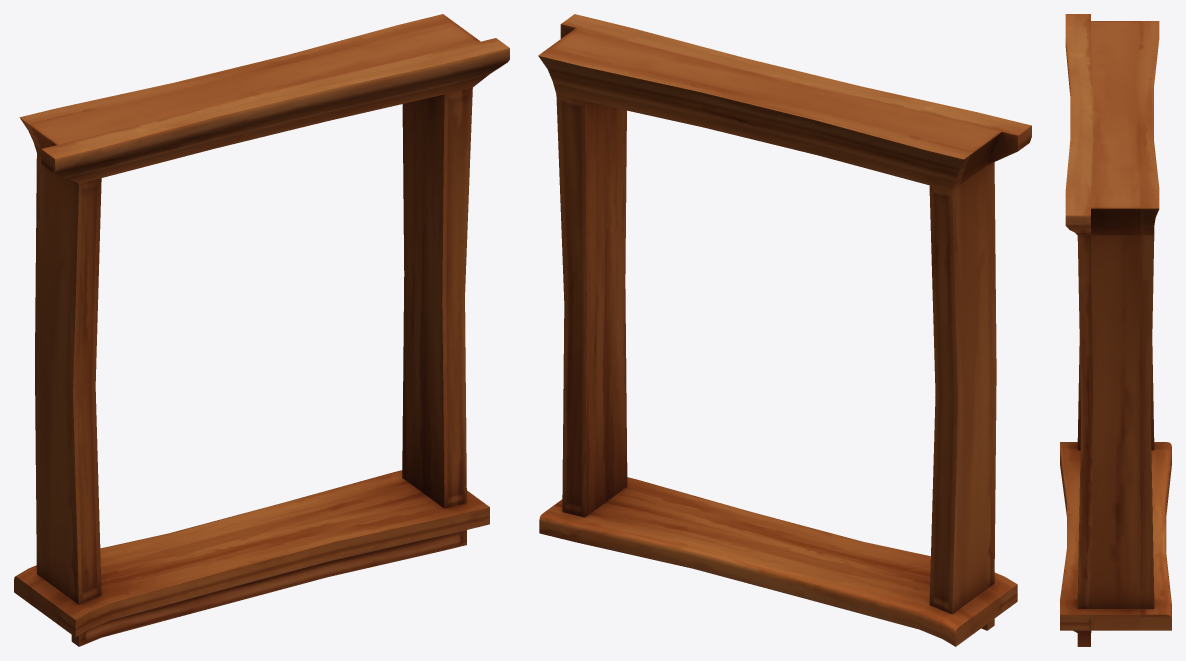
Rendered from PropWindow01TypeE_1_1.FBX.
The picture shows the model from 3 angles, left to right: view 1: azimuth 30°, elevation 25°; view 2: azimuth 150°, elevation 25°; view 3: azimuth 270°, elevation 25°; orthographic projection. The views are drawn at different scales.
Parts seen in each view (by area): view 1: PropWindow01TypeE_1_1; view 2: PropWindow01TypeE_1_1; view 3: PropWindow01TypeE_1_1.
Part boxes in pixels (<box>): PropWindow01TypeE_1_1: <box>14,14,509,646</box>; PropWindow01TypeE_1_1: <box>538,14,1031,646</box>; PropWindow01TypeE_1_1: <box>1060,14,1171,646</box>.
Size of what is drawn, in the model's own units: 1.9 by 2 by 0.4449.
